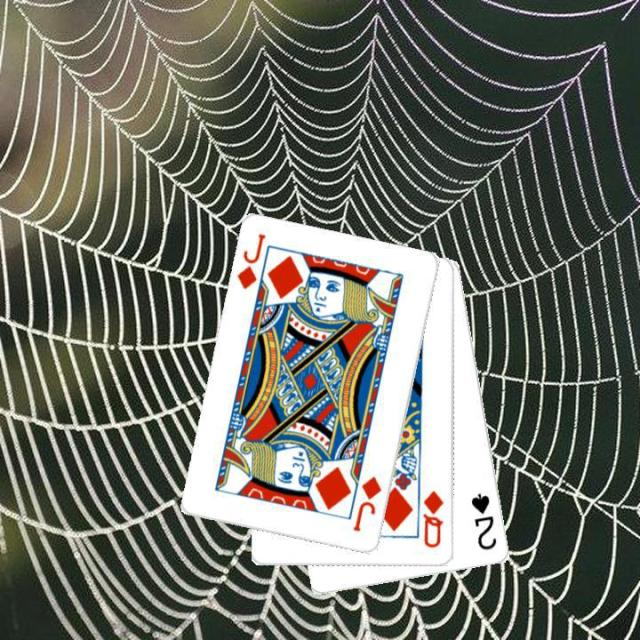2S: (468, 489, 500, 552)
JD: (349, 473, 384, 534), (233, 230, 267, 292)
QD: (420, 487, 446, 550)
